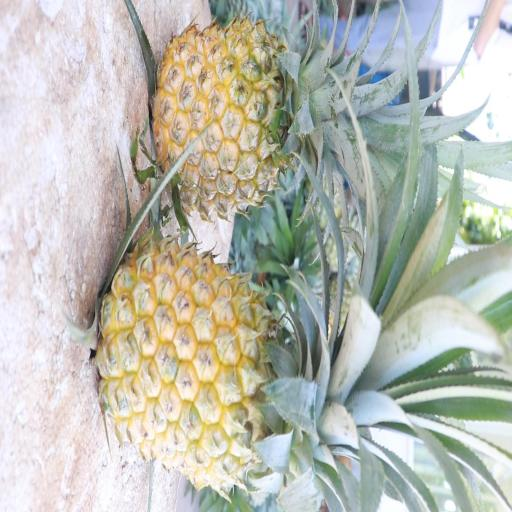Pineapple - v8 v1: (92, 228, 386, 491), (148, 10, 358, 226), (216, 154, 226, 158), (223, 112, 232, 112)
